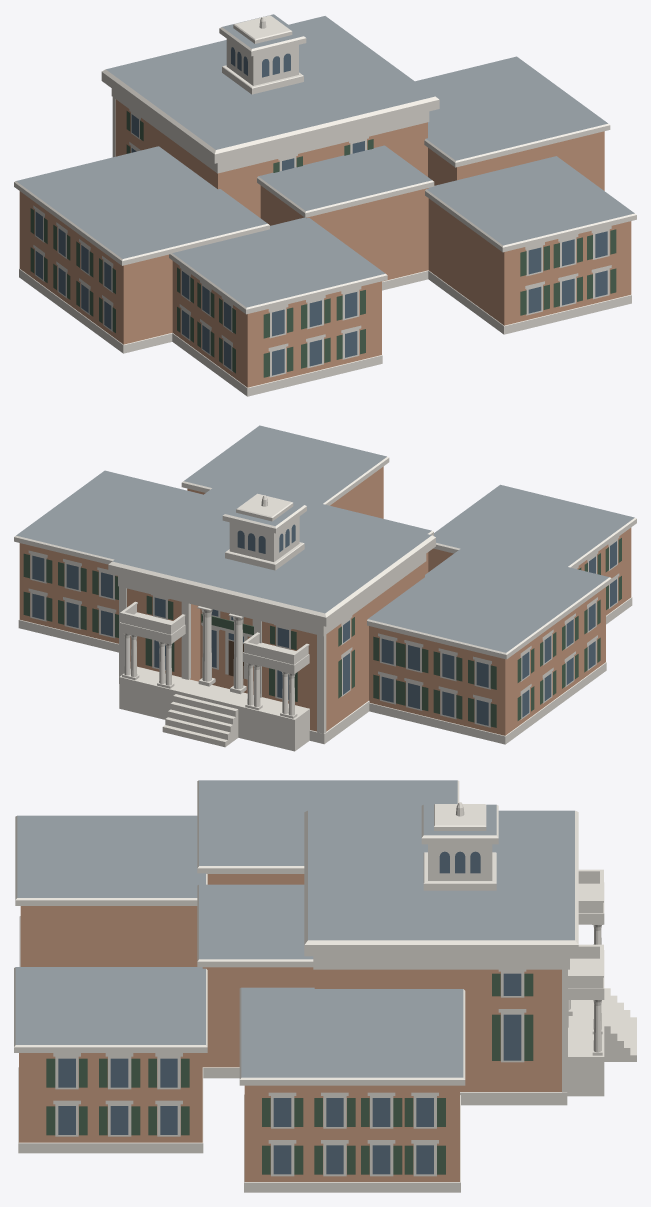
Rendered from nash-belmont-mansion.glb.
3 renders of one model, top to bottom at view 1: azimuth 30°, elevation 25°; view 2: azimuth 150°, elevation 25°; view 3: azimuth 270°, elevation 25°, orthographic. The views are drawn at different scales.
Parts seen in each view (by area): view 1: Belmont Mansion; view 2: Belmont Mansion; view 3: Belmont Mansion.
Boxes of the visible parts, left/top/right/bottom form: Belmont Mansion: left=14, top=14, right=636, bottom=396; Belmont Mansion: left=14, top=425, right=636, bottom=751; Belmont Mansion: left=14, top=780, right=636, bottom=1192.
Bounding box in the file's own units: 48.6 × 18.2 × 42.8.
